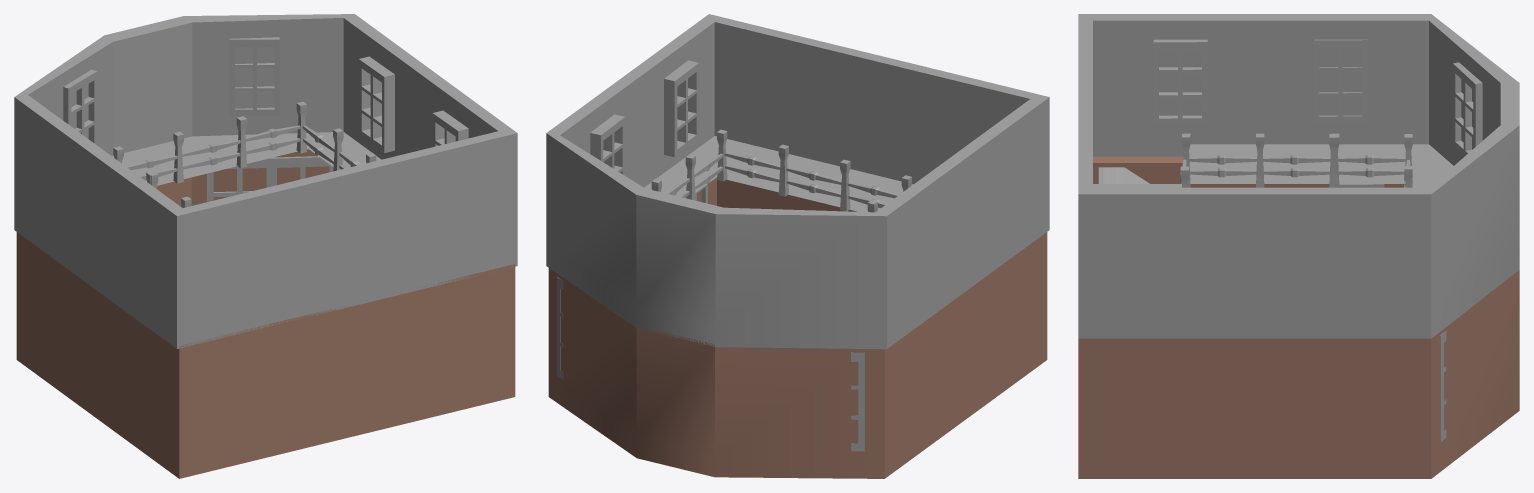
File: Blockout_Mesh.fbx
The picture shows the model from 3 angles, left to right: view 1: azimuth 30°, elevation 25°; view 2: azimuth 150°, elevation 25°; view 3: azimuth 270°, elevation 25°; orthographic projection. The views are drawn at different scales.
Visible parts, largest first — view 1: pCube88; view 2: pCube88; view 3: pCube88.
Part boxes in pixels (left/top/right/bottom): pCube88: left=14, top=14, right=517, bottom=478; pCube88: left=546, top=14, right=1049, bottom=478; pCube88: left=1078, top=14, right=1519, bottom=478.
Bounding box in the file's own units: 1725 × 1274 × 1785.
